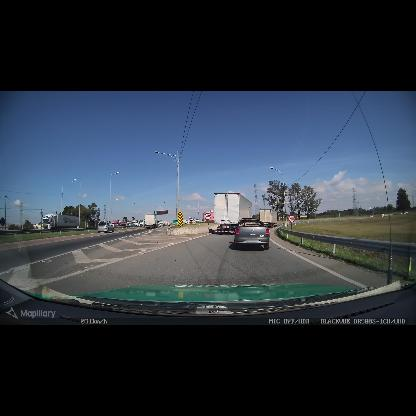O-MP: (178, 211, 183, 227)
R-19: (288, 215, 295, 222), (205, 213, 211, 220)
